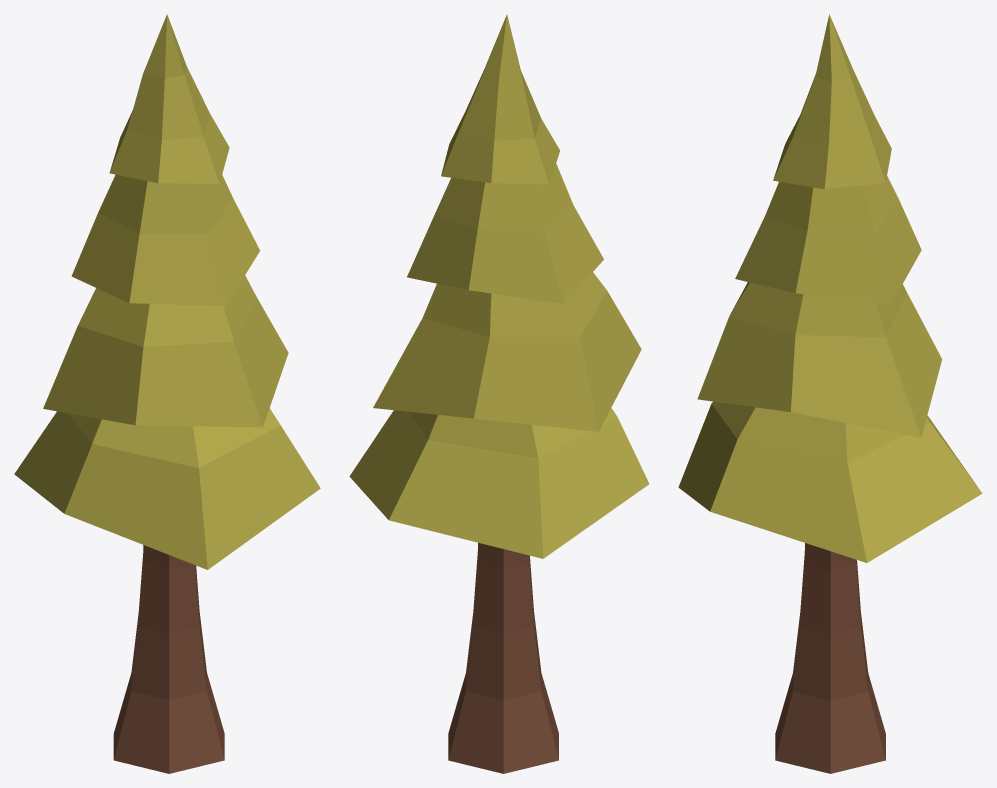
File: Pine_Tree_Yellow.fbx
3 renders of one model, left to right at view 1: azimuth 30°, elevation 25°; view 2: azimuth 150°, elevation 25°; view 3: azimuth 270°, elevation 25°, orthographic.
Visible parts, largest first — view 1: Pine_Tree_Yellow_Geo; view 2: Pine_Tree_Yellow_Geo; view 3: Pine_Tree_Yellow_Geo.
Part boxes in pixels (x1,y1,x2,y2): Pine_Tree_Yellow_Geo: (14,14,320,773); Pine_Tree_Yellow_Geo: (349,14,649,773); Pine_Tree_Yellow_Geo: (678,14,982,773).
Size of the model in its own units: 84.42 by 226 by 85.25.
